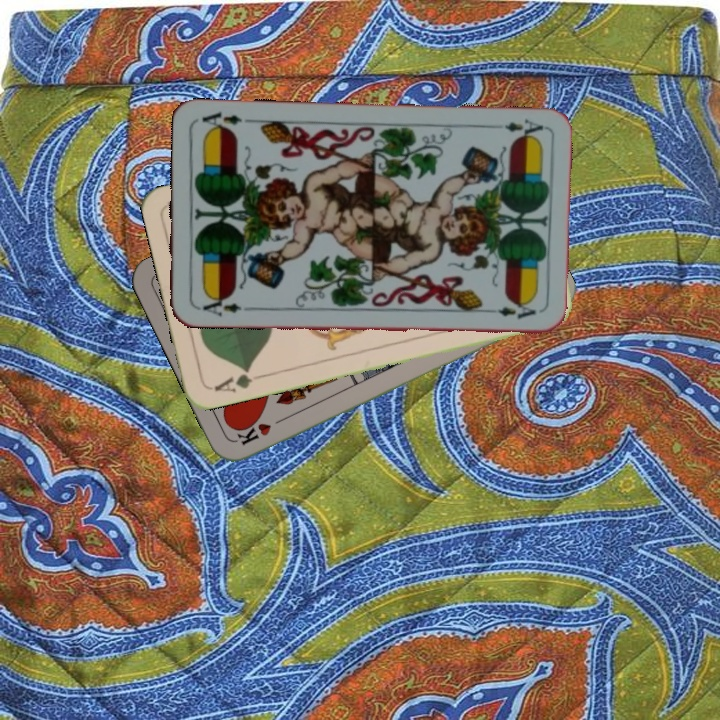EA: (487, 115, 545, 141), (193, 292, 244, 319)
GA: (210, 364, 266, 395)
HK: (233, 412, 290, 448)
